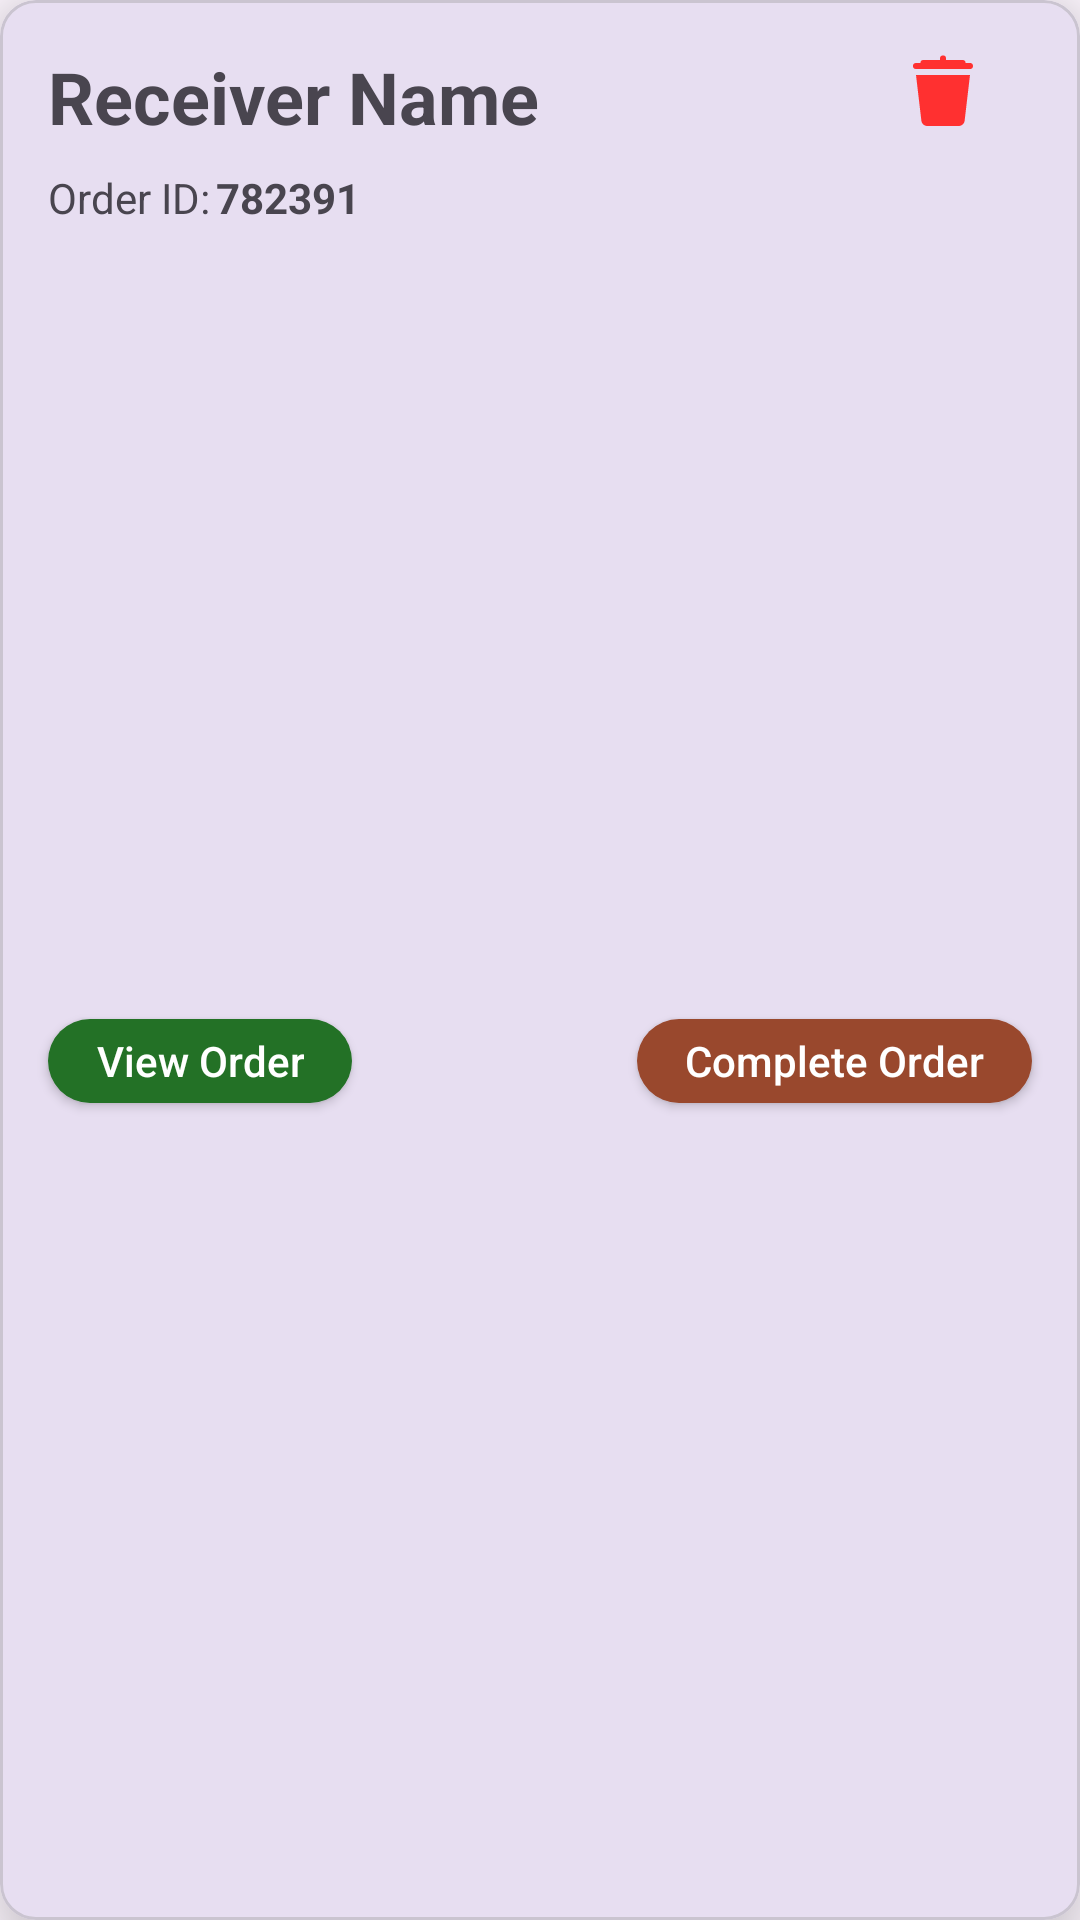

Where to tap for icons on this 1080 x 1920 app screen, as point (x, y):
delete: point (943, 90)
